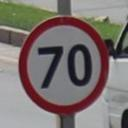speed_limit_70: (16, 12, 111, 118)
